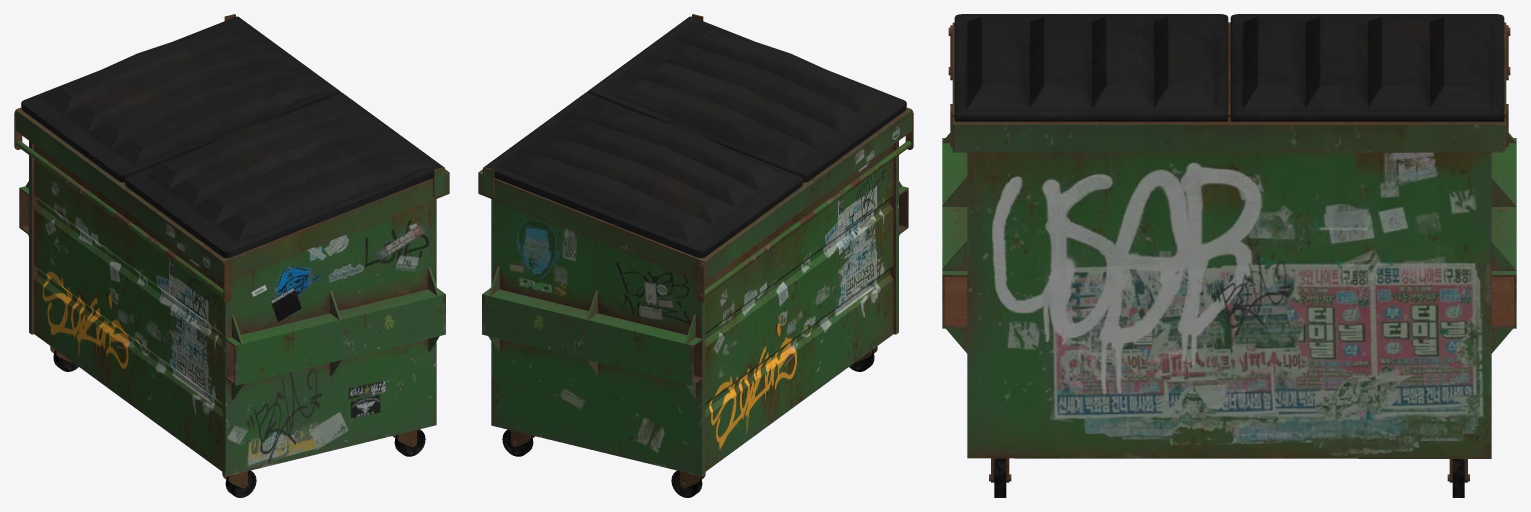
The model's file is dumpster.glb.
3 views of the same model, side by side, from view 1: azimuth 30°, elevation 25°; view 2: azimuth 150°, elevation 25°; view 3: azimuth 270°, elevation 25° (orthographic). The views are drawn at different scales.
Visible parts, largest first — view 1: BIN_lambert1_0; view 2: BIN_lambert1_0; view 3: BIN_lambert1_0.
Part boxes in pixels (x1,y1,x2,y2): BIN_lambert1_0: (14, 14, 449, 497); BIN_lambert1_0: (478, 14, 913, 497); BIN_lambert1_0: (942, 14, 1516, 497).
Size of the model in its own units: 1.18 by 1.5 by 1.95.
Materials: 1 (1 with a texture image).
